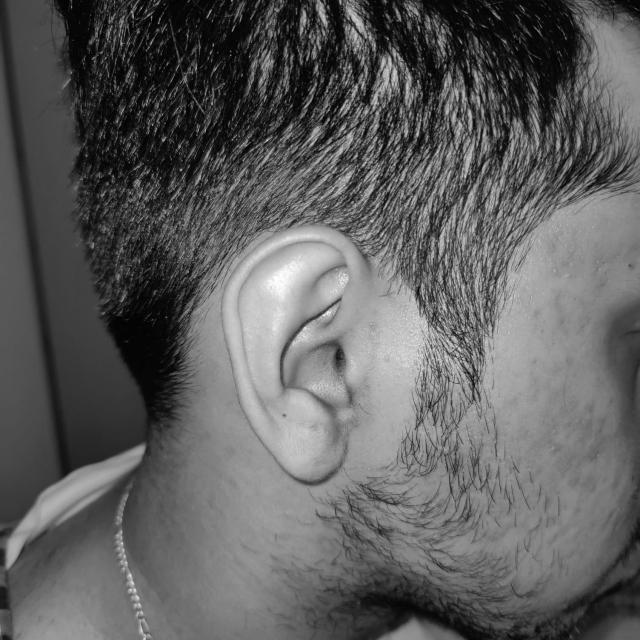ear: (223, 225, 377, 482)
